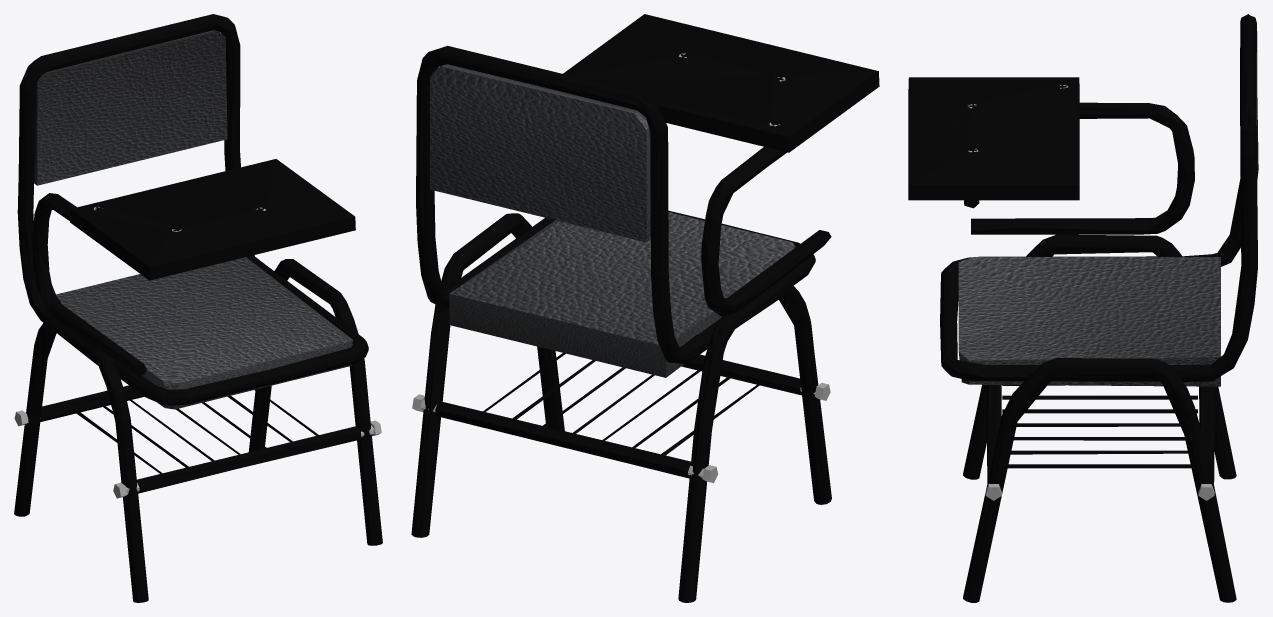
Rendered from silla_pupitre_disgraf_8b.glb.
The picture shows the model from 3 angles, left to right: view 1: azimuth 30°, elevation 25°; view 2: azimuth 150°, elevation 25°; view 3: azimuth 270°, elevation 25°; orthographic projection. The views are drawn at different scales.
Visible parts, largest first — view 1: Object_2, Object_3, Object_5; view 2: Object_2, Object_3, Object_5; view 3: Object_2, Object_3, Object_5.
Boxes of the visible parts, x1,y1,x2,y2 form: Object_2: [14, 14, 382, 602]; Object_3: [34, 30, 352, 409]; Object_5: [14, 206, 381, 498]; Object_2: [411, 14, 879, 602]; Object_3: [430, 64, 795, 377]; Object_5: [412, 53, 830, 483]; Object_2: [908, 14, 1258, 602]; Object_3: [958, 31, 1257, 386]; Object_5: [967, 85, 1214, 500].
Bounding box in the file's own units: 2.4 × 3.8 × 2.52.
Materials: 3 (1 with a texture image).
